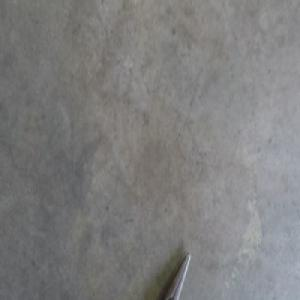Pliers: (164, 251, 190, 299)
